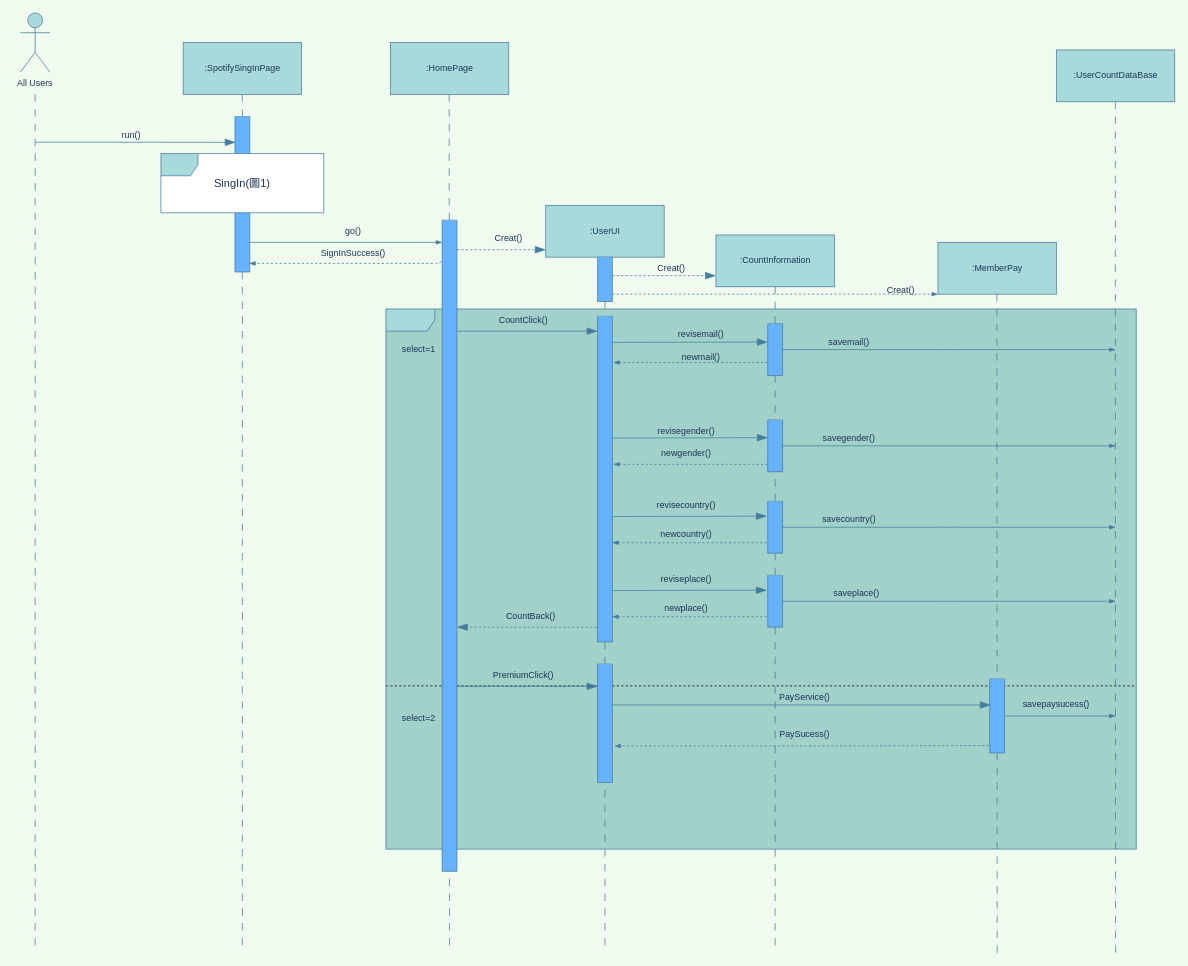
This 1188x966 diagram has some shape labels left out. The box of each missing label's shape, as (x1, y1, x2, y2) in pixels:
opt: (385, 308, 1136, 849)
ref: (160, 153, 324, 213)
